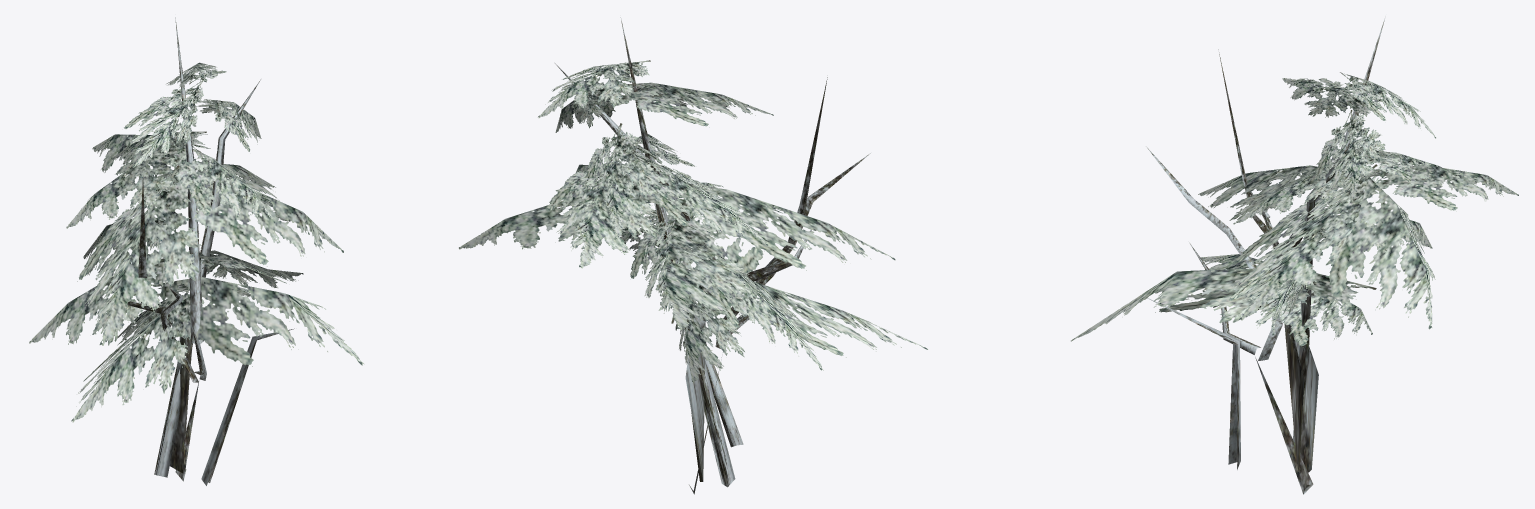
Rendered from S_Tree_White014_3.FBX.
3 views of the same model, side by side, from view 1: azimuth 30°, elevation 25°; view 2: azimuth 150°, elevation 25°; view 3: azimuth 270°, elevation 25° (orthographic). The views are drawn at different scales.
Visible parts, largest first — view 1: S_Tree_White014_3; view 2: S_Tree_White014_3; view 3: S_Tree_White014_3.
Boxes of the visible parts, x1=… form: S_Tree_White014_3: x1=29, y1=17, x2=364, y2=485; S_Tree_White014_3: x1=459, y1=17, x2=927, y2=494; S_Tree_White014_3: x1=1071, y1=16, x2=1518, y2=494.
Size of the model in its own units: 344 by 374 by 343.
